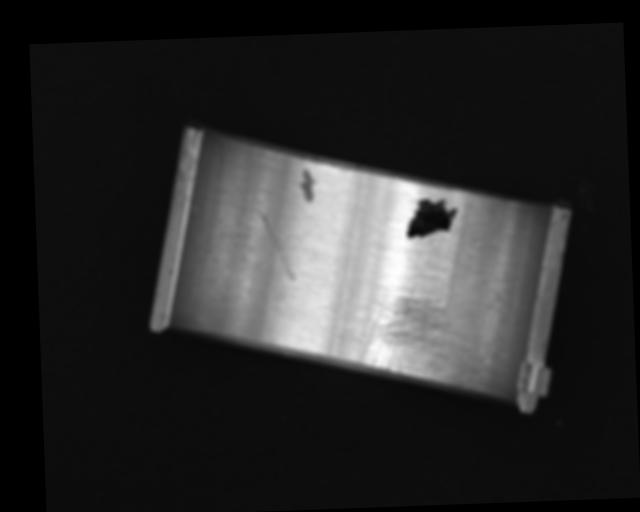blot: (404, 195, 460, 239)
bruise: (297, 167, 317, 203)
nick: (334, 172, 362, 299), (257, 206, 296, 284)
scratch: (355, 280, 484, 394)
